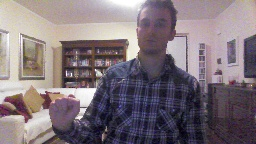Pugno: (47, 93, 81, 131)
